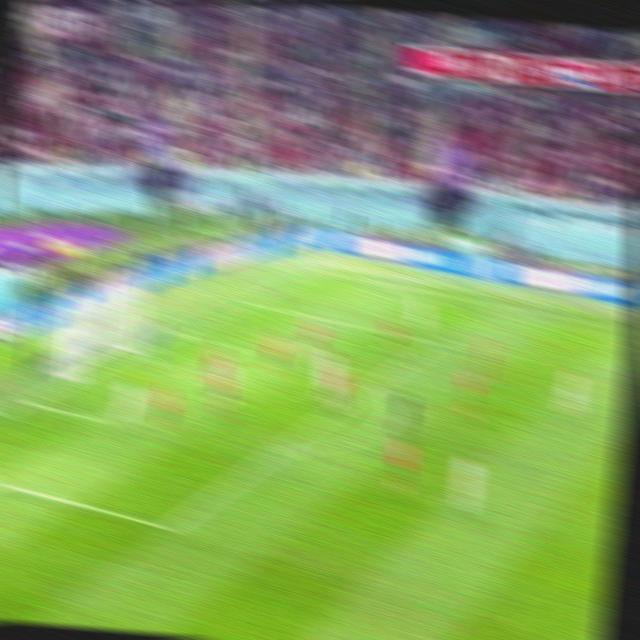bigarea_bottom_inner: (154, 510, 184, 543)
bigarea_top_inner: (428, 334, 447, 350)
bigarea_top_outter: (237, 295, 256, 308)
bottom_arc_area_intersection: (269, 440, 291, 461)
corner: (309, 265, 326, 274)
smallarea_bottom_inner: (91, 409, 113, 430)
smallarea_bottom_outter: (15, 393, 37, 410)
smallarea_top_inner: (230, 339, 250, 356)
smallarea_top_outter: (166, 325, 186, 341)
top_arc_area_intersection: (362, 376, 383, 395)
